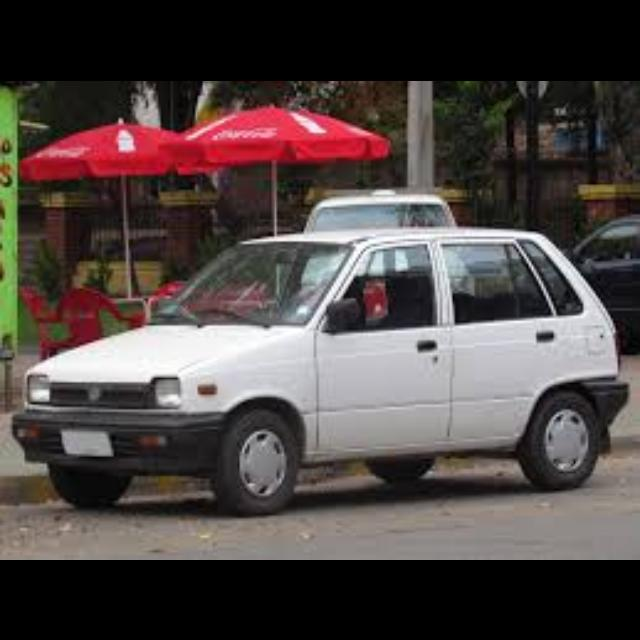number-plate: (60, 428, 117, 460)
vehicles: (12, 223, 634, 514)
